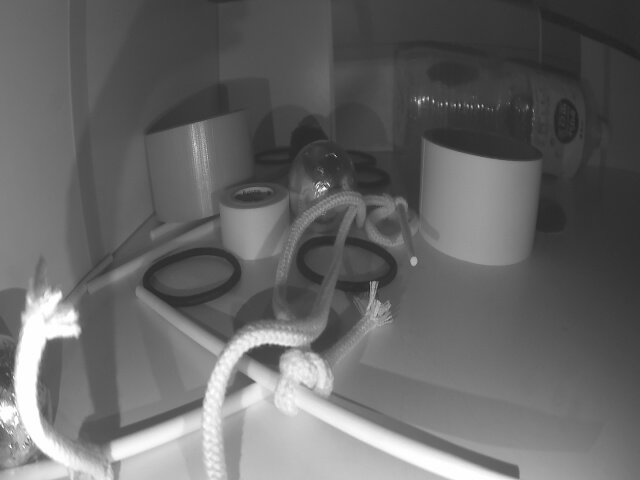Live: (0, 337, 53, 466), (290, 140, 358, 232)
